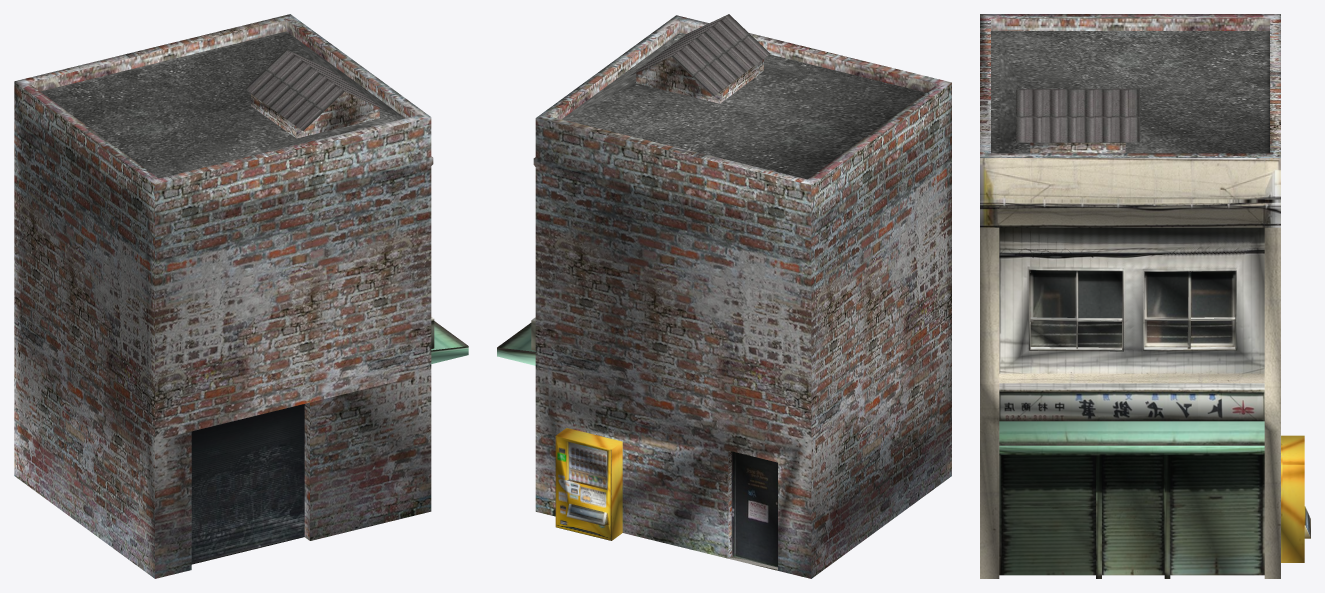
Rendered from japanese_shop_2.glb.
The picture shows the model from 3 angles, left to right: view 1: azimuth 30°, elevation 25°; view 2: azimuth 150°, elevation 25°; view 3: azimuth 270°, elevation 25°; orthographic projection. The views are drawn at different scales.
Parts seen in each view (by area): view 1: Cube_2; view 2: Cube_2; view 3: Cube_2.
Part boxes in pixels (bbox=[...]): Cube_2: bbox=[14, 14, 468, 578]; Cube_2: bbox=[497, 14, 951, 578]; Cube_2: bbox=[980, 14, 1310, 578].
Size of the model in its own units: 17.21 by 21.65 by 14.3.
Materials: 1 (1 with a texture image).
